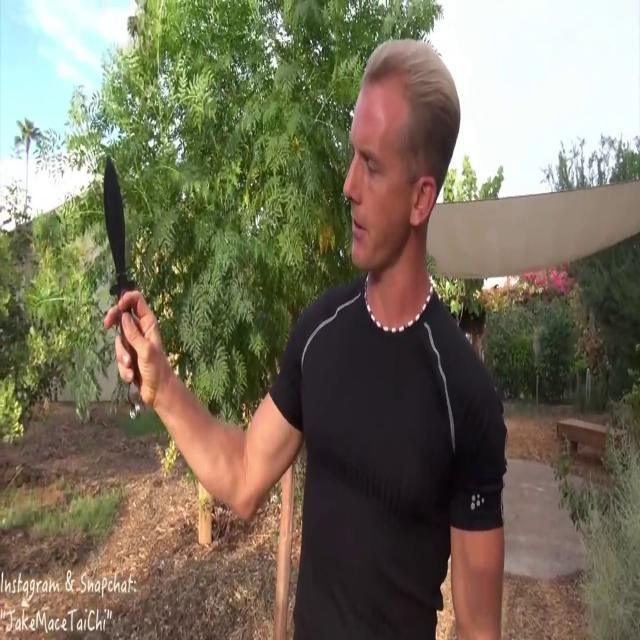knife: (96, 153, 148, 433)
